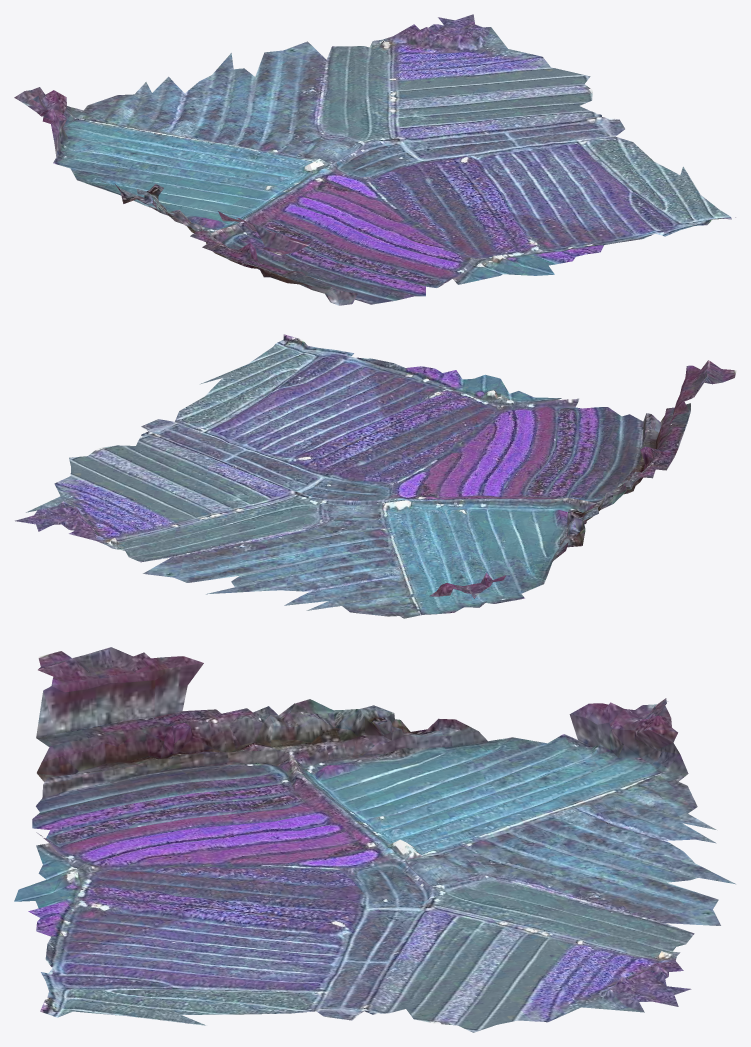
File: Tile_+011_+018_L19_000021.glb
3 views of the same model, one above another, from view 1: azimuth 30°, elevation 25°; view 2: azimuth 150°, elevation 25°; view 3: azimuth 270°, elevation 25° (orthographic). The views are drawn at different scales.
Visible parts, largest first — view 1: rtc; view 2: rtc; view 3: rtc.
Part boxes in pixels (x1,y1,x2,y2): rtc: [14, 14, 735, 305]; rtc: [15, 334, 736, 618]; rtc: [14, 647, 735, 1032].
Size of the model in its own units: 56.34 by 9.51 by 59.14.
1 material, 1 textured.
